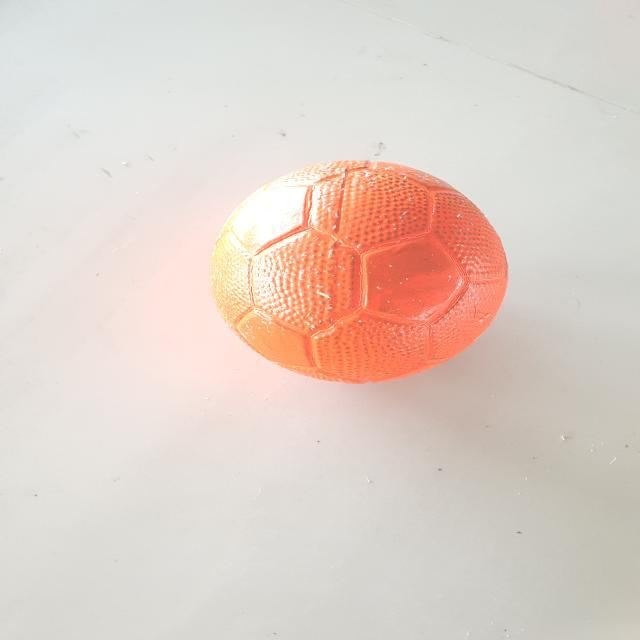bola: (203, 150, 518, 394)
